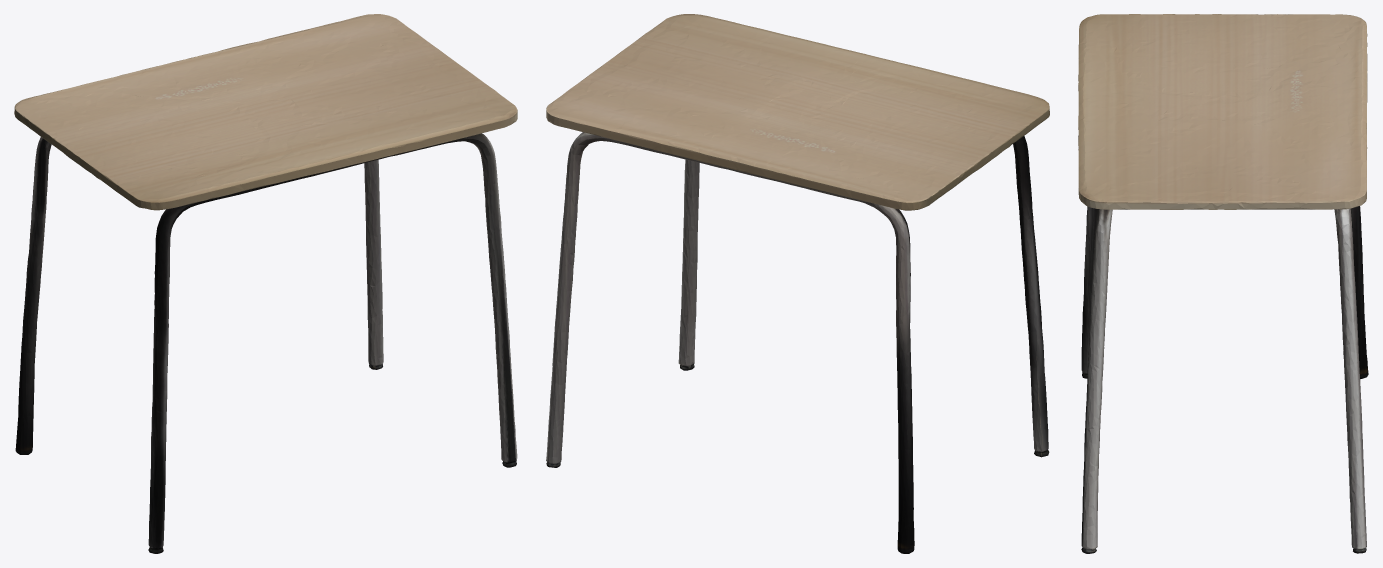
3 renders of one model, left to right at view 1: azimuth 30°, elevation 25°; view 2: azimuth 150°, elevation 25°; view 3: azimuth 270°, elevation 25°, orthographic.
Parts seen in each view (by area): view 1: world; view 2: world; view 3: world.
Part boxes in pixels (x1,y1,x2,y2): world: (14,14,517,553); world: (546,14,1049,553); world: (1078,14,1368,553).
Bounding box in the file's own units: 0.9984 × 0.8845 × 0.6494.
1 material, 1 textured.
